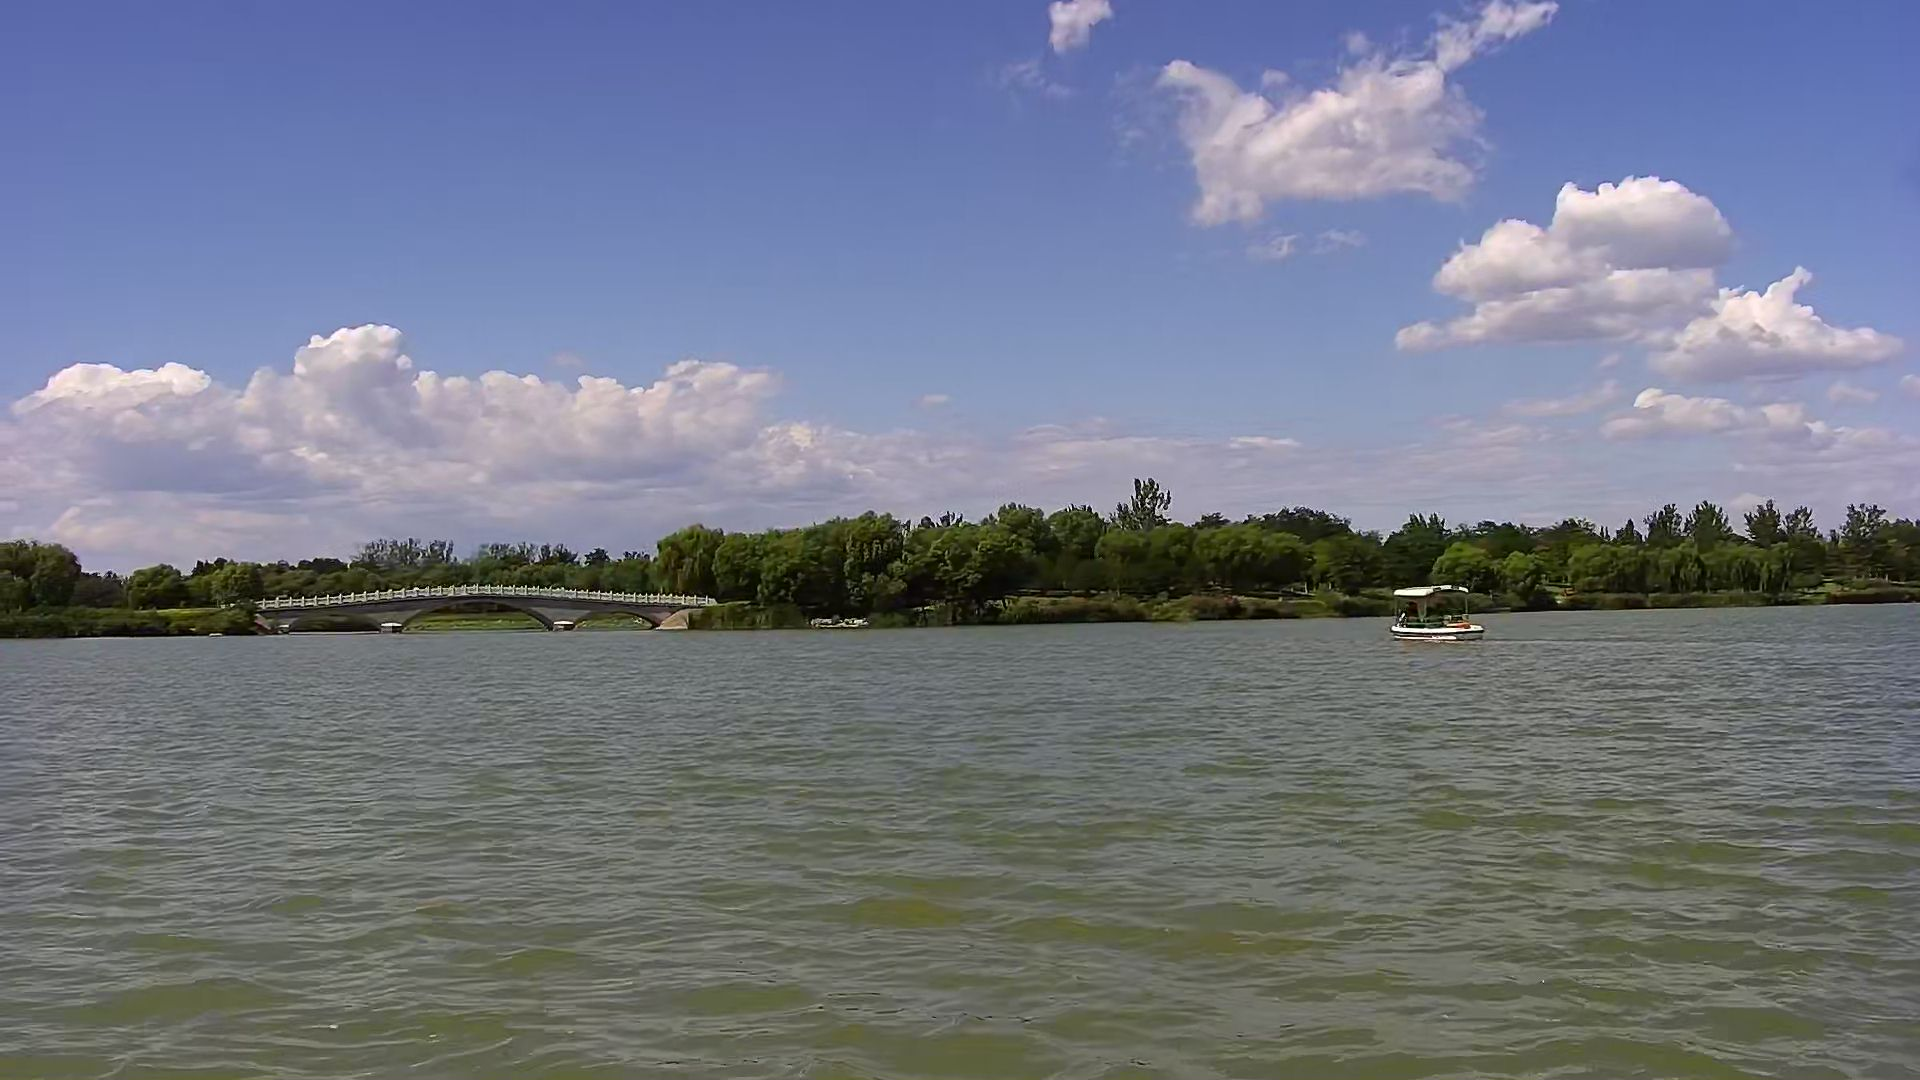boat: (1393, 579, 1484, 642)
bridge: (262, 585, 686, 636)
